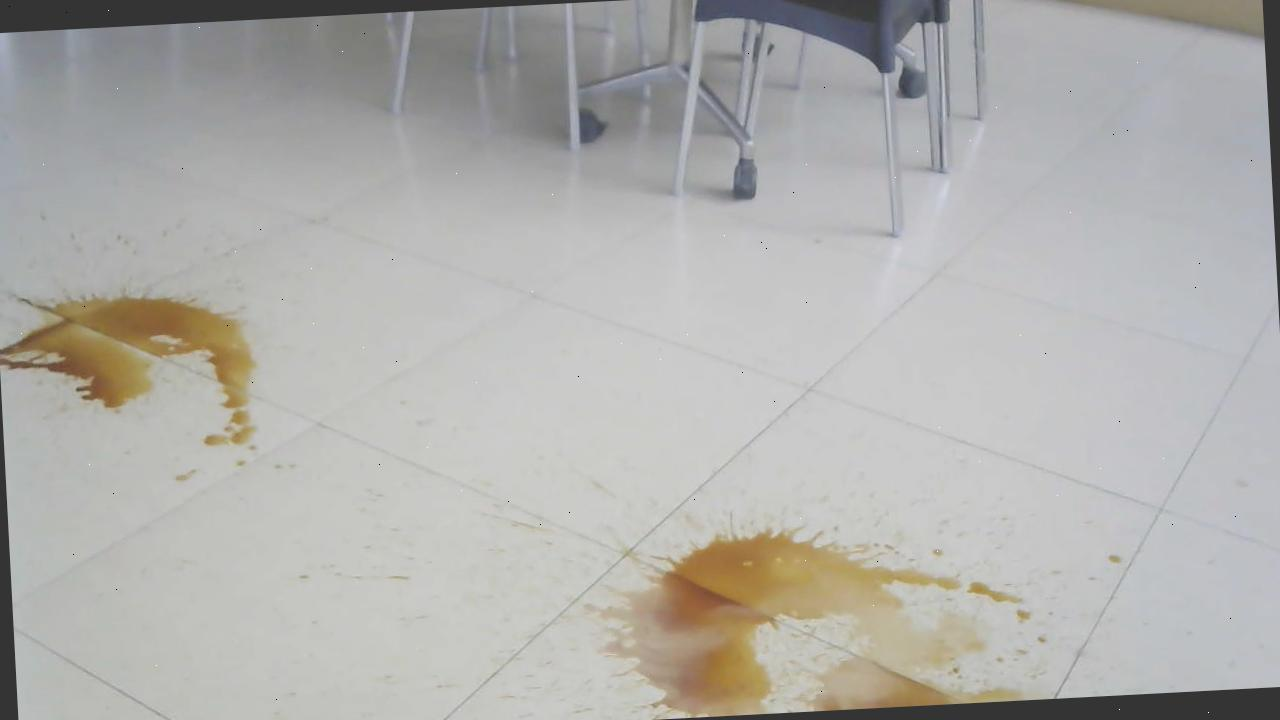dirty_floor: (586, 478, 1068, 710), (0, 263, 266, 467)
